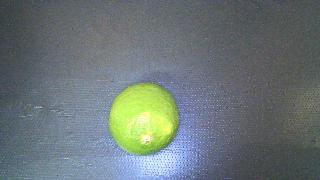EXPORTACION: (109, 83, 179, 156)
